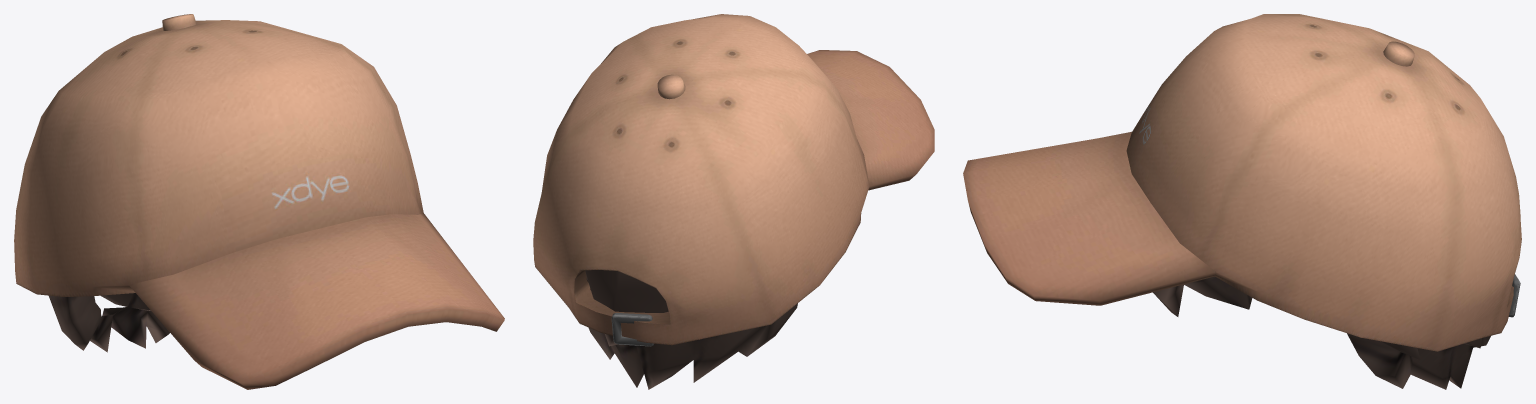
The model's file is headwear-pullandbear-01.glb.
The picture shows the model from 3 angles, left to right: view 1: azimuth 30°, elevation 25°; view 2: azimuth 150°, elevation 25°; view 3: azimuth 270°, elevation 25°; orthographic projection. The views are drawn at different scales.
Parts seen in each view (by area): view 1: Wolf3D_Headwear; view 2: Wolf3D_Headwear; view 3: Wolf3D_Headwear.
Part boxes in pixels (x1,y1,x2,y2): Wolf3D_Headwear: (14,14,504,389); Wolf3D_Headwear: (533,14,934,389); Wolf3D_Headwear: (963,14,1521,389).
Bounding box in the file's own units: 0.188 × 0.2015 × 0.2913.
1 material, 1 textured.
